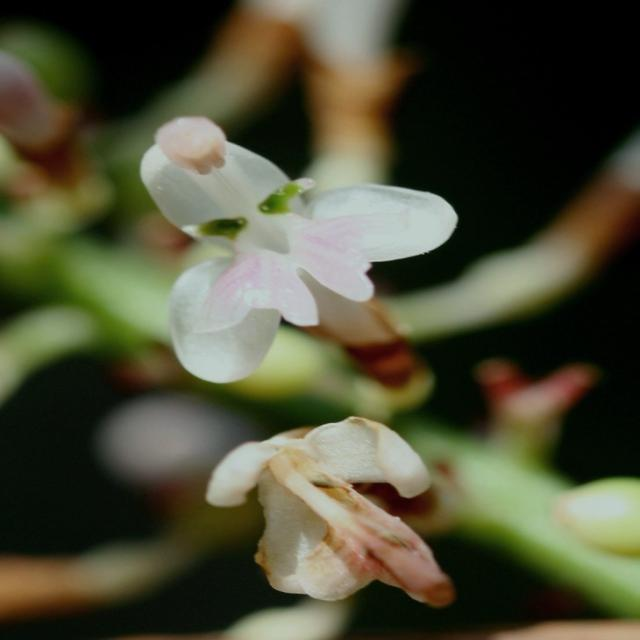Aquatic-Ginger: (140, 112, 458, 382), (202, 410, 464, 611)
